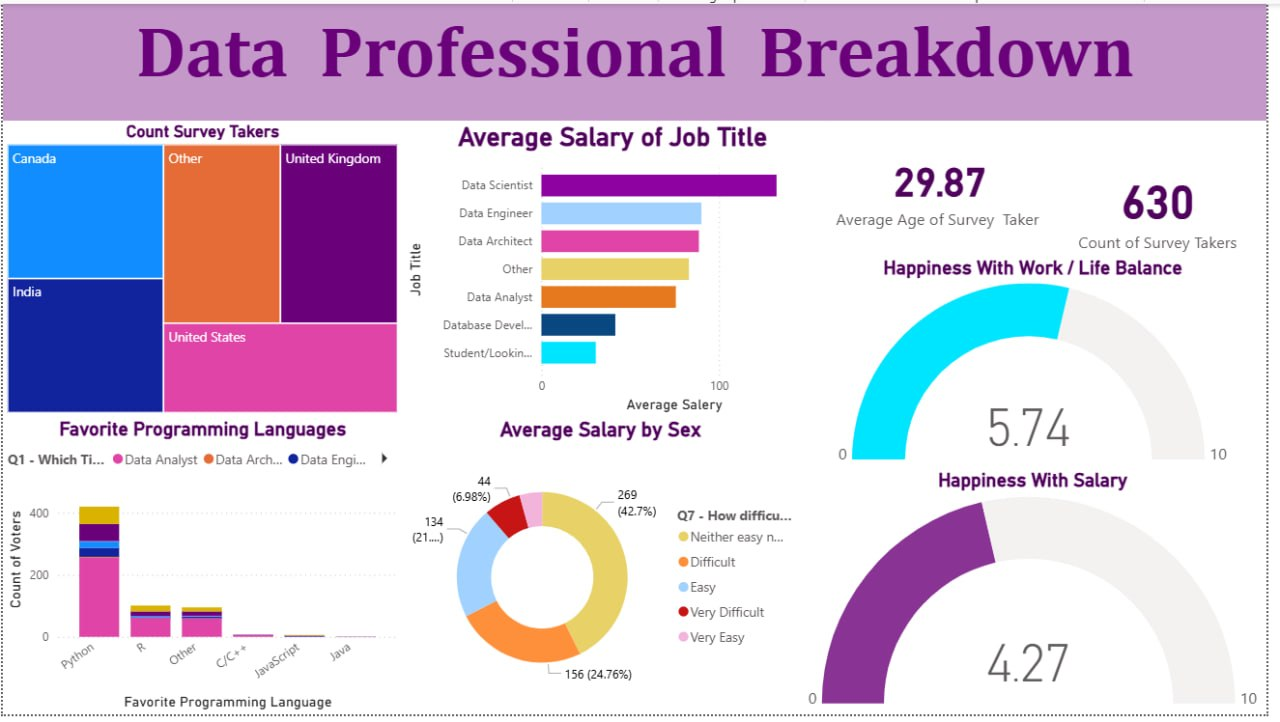

The dashboard page shown, as its layout file describes it:
{"tool":"powerbi","page":{"name":"Page 1","canvas":[1280,720],"ordinal":0},"visuals":[{"type":"textbox","box":[0,0,1280.3,118.6],"z":0},{"type":"card","fields":{"Values":["CountNonNull(Data Professional Survey.Unique ID)"]},"box":[1059,118.6,221.3,177.3],"z":1000},{"type":"card","fields":{"Values":["Avg(Data Professional Survey.Q10 - Current Age)"]},"box":[838.9,118.6,220.1,138.2],"z":2000},{"type":"barChart","title":"Average Salary of Job Title","fields":{"Category":["Data Professional Survey.Q1 - Which Title Best Fits your Current Role?.1"],"Y":["Avg(Data Professional Survey.Average Salery )"]},"box":[404.8,118.6,425.5,300.8],"z":3000},{"type":"columnChart","title":"Favorite Programming  Languages ","fields":{"Category":["Data Professional Survey.Q5 - Favorite Programming Language.1.1.1.1"],"Y":["CountNonNull(Data Professional Survey.Unique ID)"],"Series":["Data Professional Survey.Q1 - Which Title Best Fits your Current Role?.1"]},"box":[0,419.4,404.8,300.8],"z":4000},{"type":"treemap","title":"Count Survey Takers","fields":{"Group":["Data Professional Survey.Q11 - Which Country do you live in?.1"],"Values":["Count(Data Professional Survey.Q11 - Which Country do you live in?.1)"]},"box":[0,118.6,404.8,300.8],"z":5000},{"type":"gauge","title":"Happiness With Work / Life Balance ","fields":{"Y":["Avg(Data Professional Survey.Q6 - How Happy are you in your Current Position with the following? (Work/Life Balance))"],"MinValue":["Min(Data Professional Survey.Q6 - How Happy are you in your Current Position with the following? (Work/Life Balance))1"],"MaxValue":["Max(Data Professional Survey.Q6 - How Happy are you in your Current Position with the following? (Work/Life Balance))2"]},"box":[805.8,256.8,474.5,215.2],"z":6000},{"type":"gauge","title":"Happiness With Salary ","fields":{"Y":["Avg(Data Professional Survey.Q6 - How Happy are you in your Current Position with the following? (Salary))"],"MinValue":["Min(Data Professional Survey.Q6 - How Happy are you in your Current Position with the following? (Salary))"],"MaxValue":["Max(Data Professional Survey.Q6 - How Happy are you in your Current Position with the following? (Salary))"]},"box":[805.8,472,474.5,248.2],"z":7000},{"type":"donutChart","title":"Average Salary  by Sex","fields":{"Category":["Data Professional Survey.Q7 - How difficult was it for you to break into Data?"],"Y":["CountNonNull(Data Professional Survey.Q7 - How difficult was it for you to break into Data?)"]},"box":[404.8,419.4,401.1,300.8],"z":8000}]}

Visuals, with their boxes in screenshot pixels (x1, y1, x2, y2), scaled from the page's 1280x720 canvas onto the 1280x722 screenshot:
textbox: <bbox>0, 0, 1279, 119</bbox>
card - CountNonNull(Data Professional Survey.Unique ID): <bbox>1059, 119, 1279, 297</bbox>
card - Avg(Data Professional Survey.Q10 - Current Age): <bbox>839, 119, 1059, 258</bbox>
"Average Salary of Job Title" barChart: <bbox>405, 119, 830, 421</bbox>
"Favorite Programming  Languages " columnChart: <bbox>0, 421, 405, 721</bbox>
"Count Survey Takers" treemap: <bbox>0, 119, 405, 421</bbox>
"Happiness With Work / Life Balance " gauge: <bbox>806, 258, 1279, 473</bbox>
"Happiness With Salary " gauge: <bbox>806, 473, 1279, 721</bbox>
"Average Salary  by Sex" donutChart: <bbox>405, 421, 806, 721</bbox>
